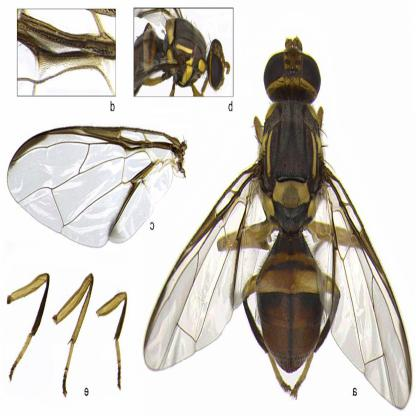fruit fly: (143, 36, 413, 410)
